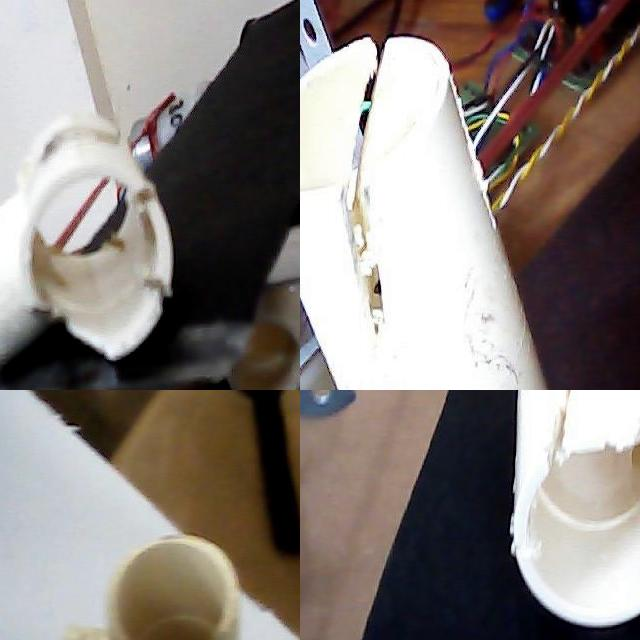Defective: (39, 135, 184, 360), (346, 52, 406, 355), (612, 397, 640, 573), (553, 390, 578, 498)
T Joint: (300, 36, 548, 390), (0, 115, 173, 370), (509, 390, 640, 637), (62, 535, 239, 640)
